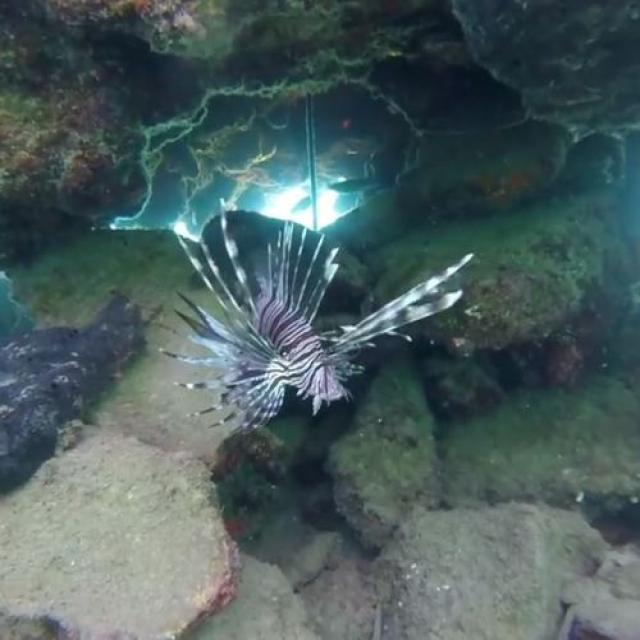Aslan Baligi: (157, 201, 475, 438)
